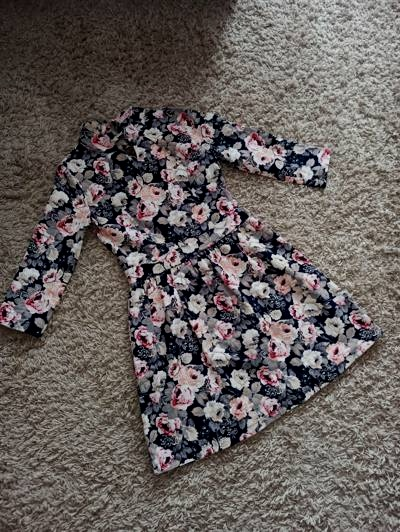Dress: (0, 80, 388, 481)
